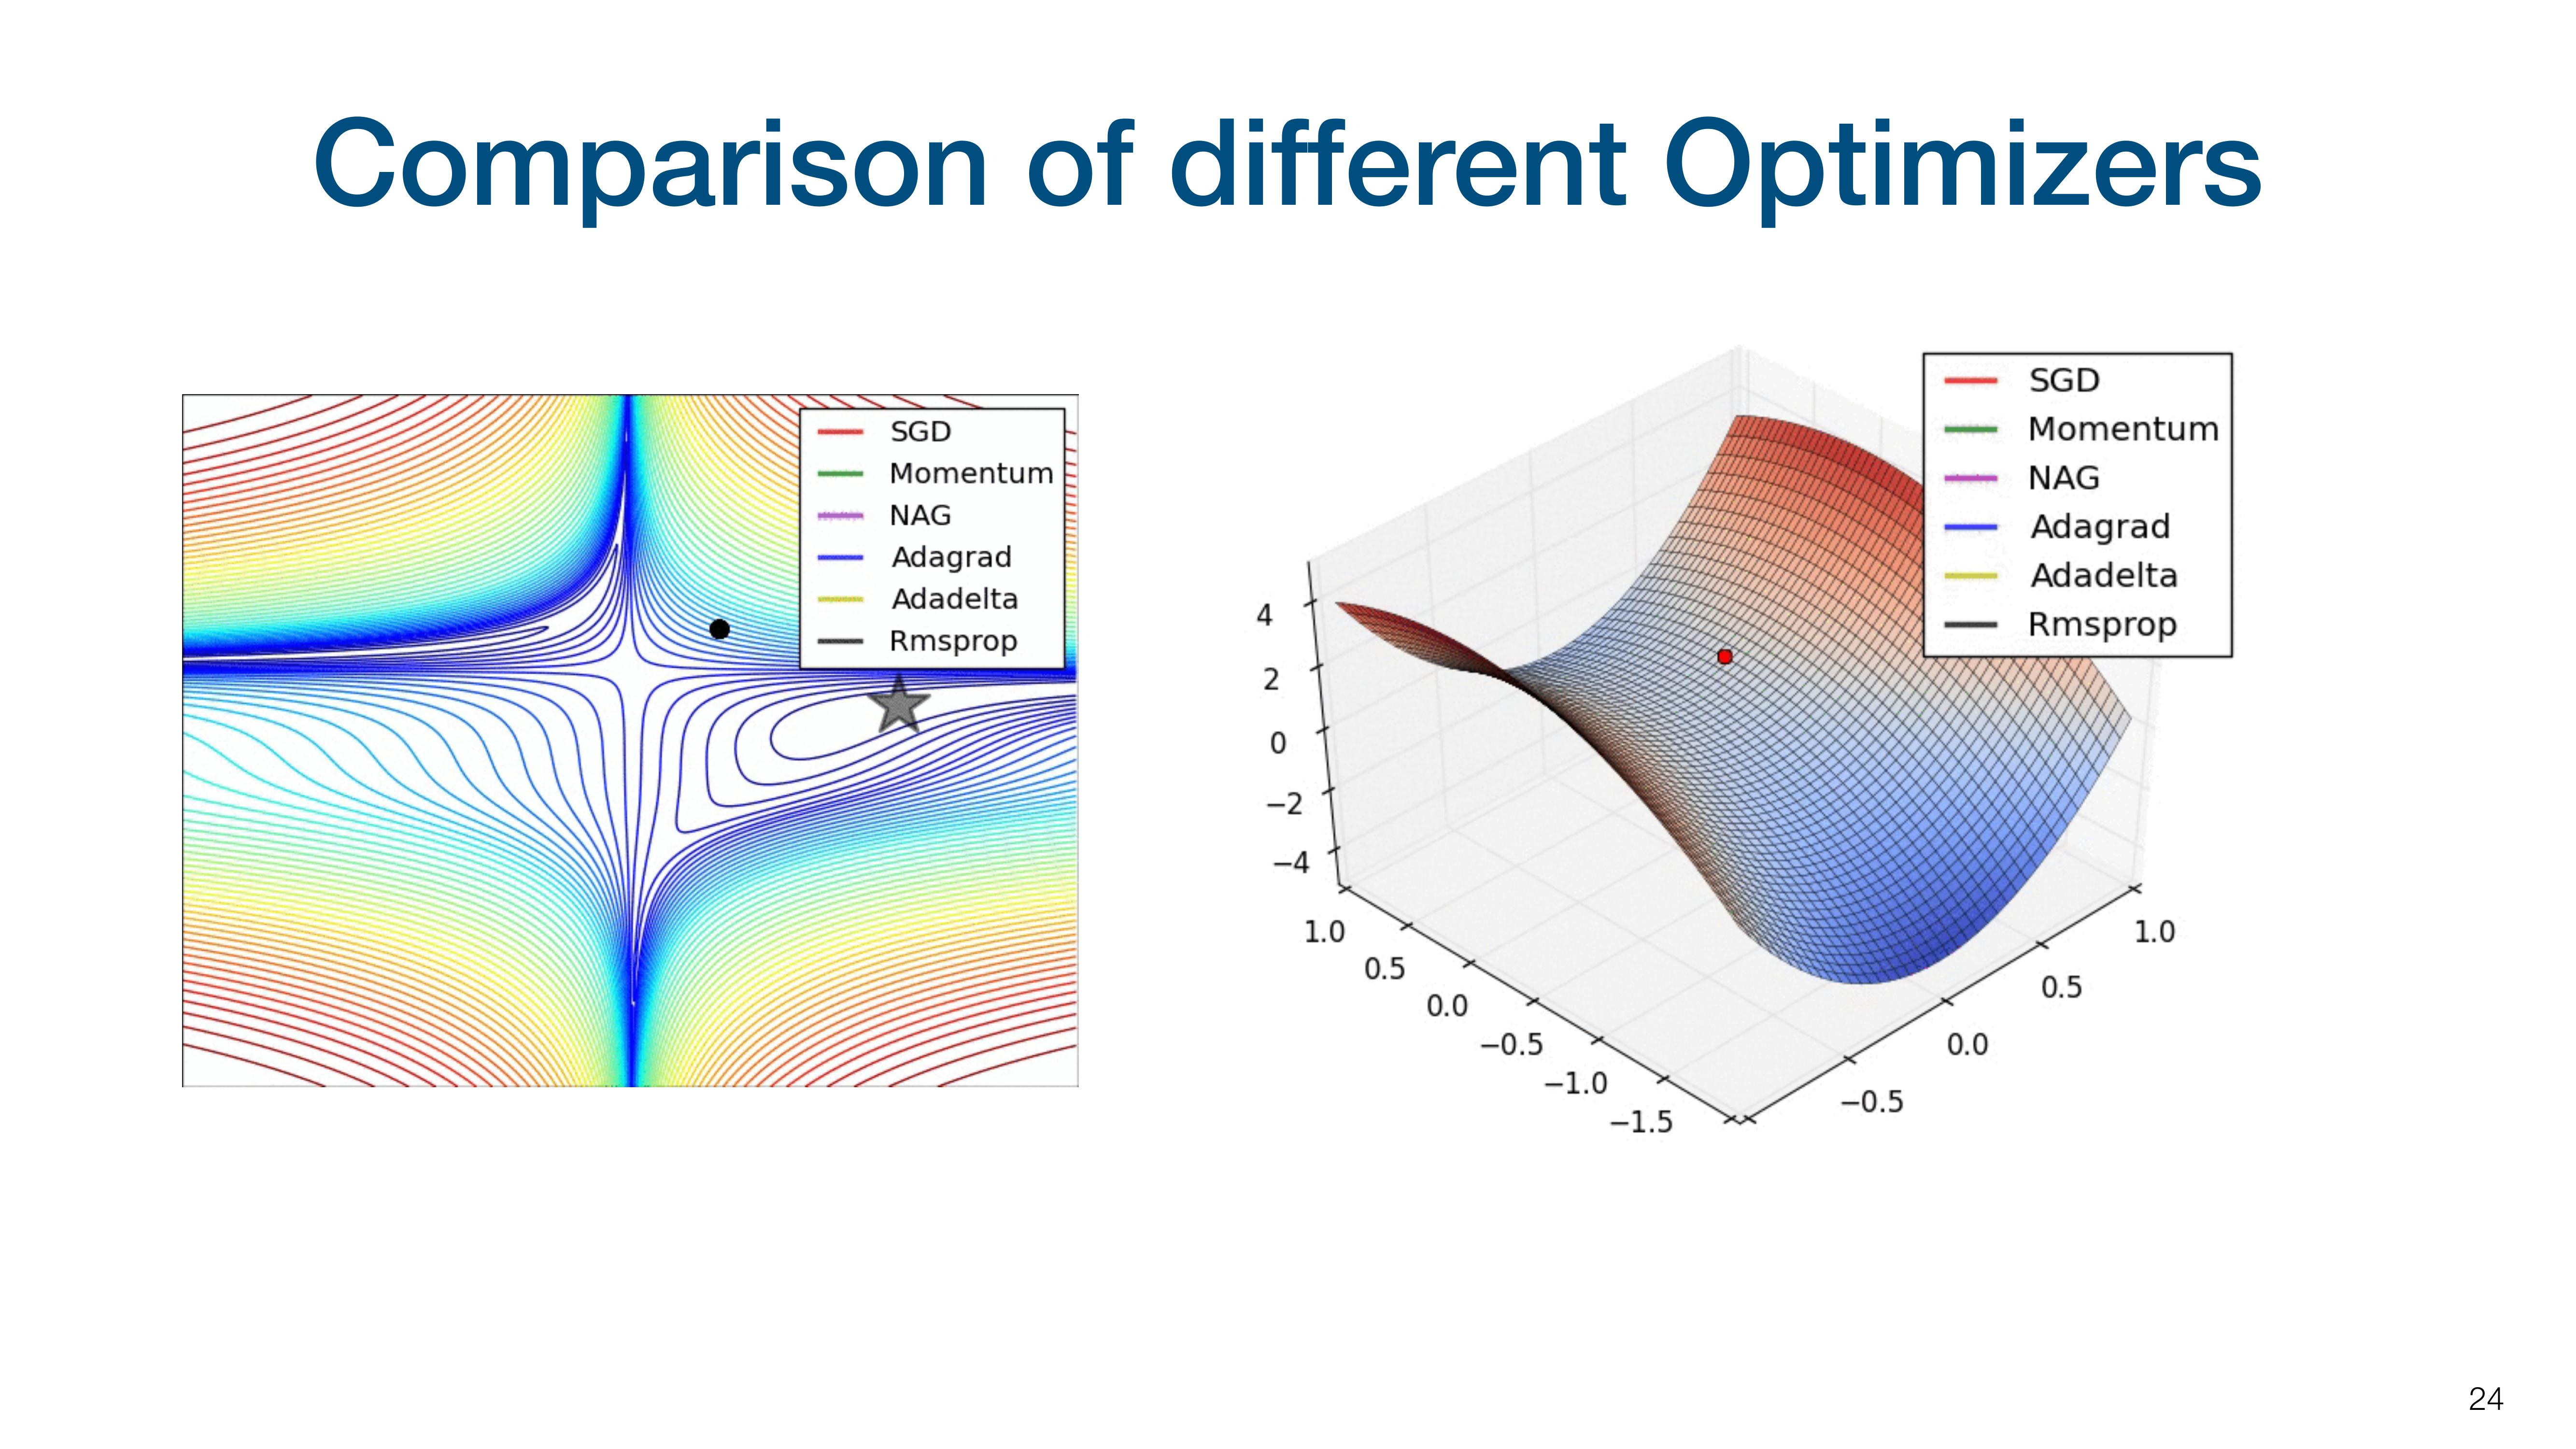Title: (205, 73, 2288, 257)
